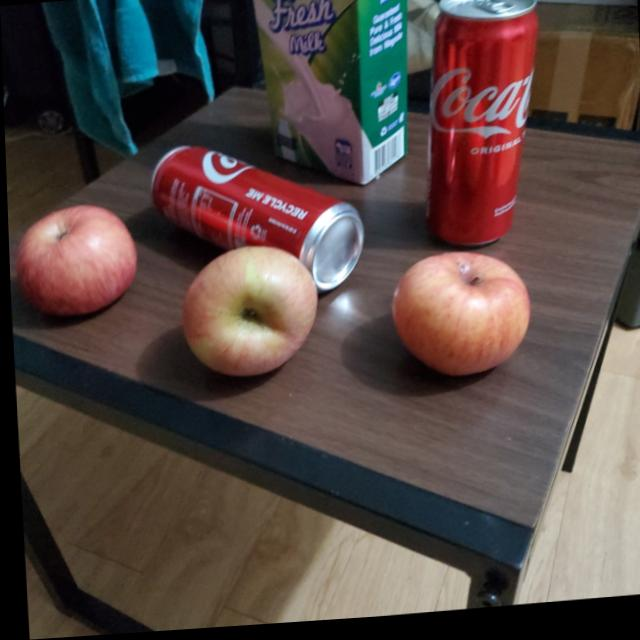apple: (173, 251, 315, 390), (387, 256, 532, 391), (10, 199, 137, 319)
coke: (152, 140, 367, 306), (408, 0, 544, 252)
milk: (242, 0, 418, 198)
